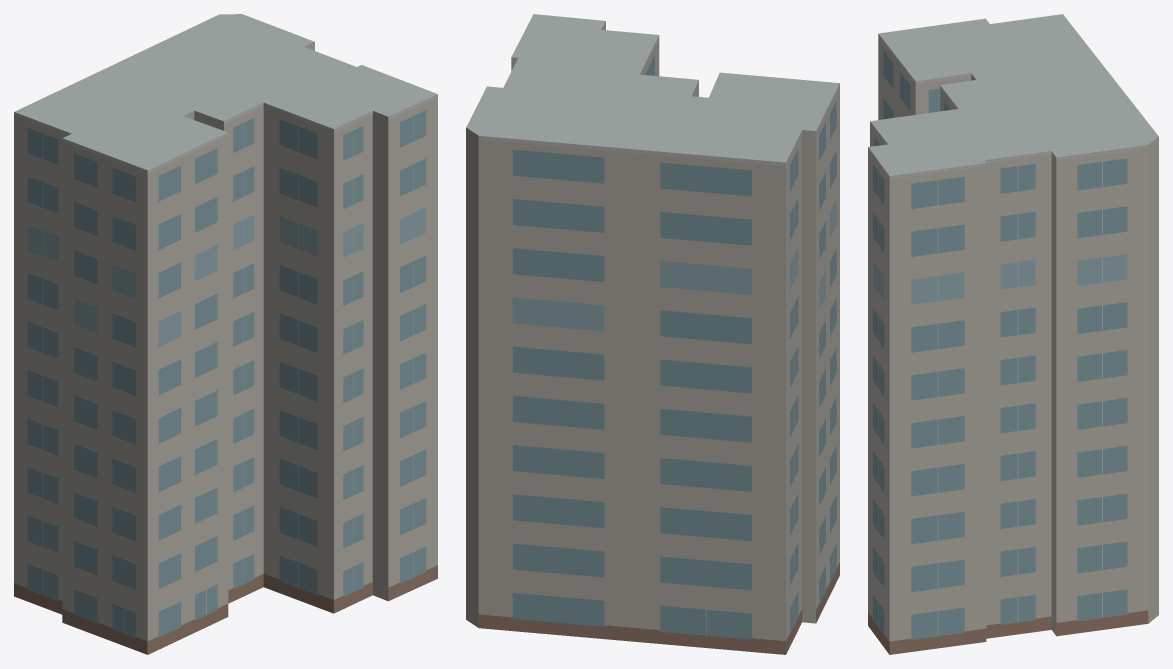
Rendered from survey-upis-32560907.glb.
3 views of the same model, side by side, from view 1: azimuth 30°, elevation 25°; view 2: azimuth 150°, elevation 25°; view 3: azimuth 270°, elevation 25° (orthographic). The views are drawn at different scales.
Parts seen in each view (by area): view 1: survey-upis-32560907.tmp; view 2: survey-upis-32560907.tmp; view 3: survey-upis-32560907.tmp.
Boxes of the visible parts, x1,y1,x2,y2 form: survey-upis-32560907.tmp: [14, 14, 437, 654]; survey-upis-32560907.tmp: [466, 14, 839, 654]; survey-upis-32560907.tmp: [868, 14, 1158, 654].
Bounding box in the file's own units: 23.82 × 32.8 × 18.06.
